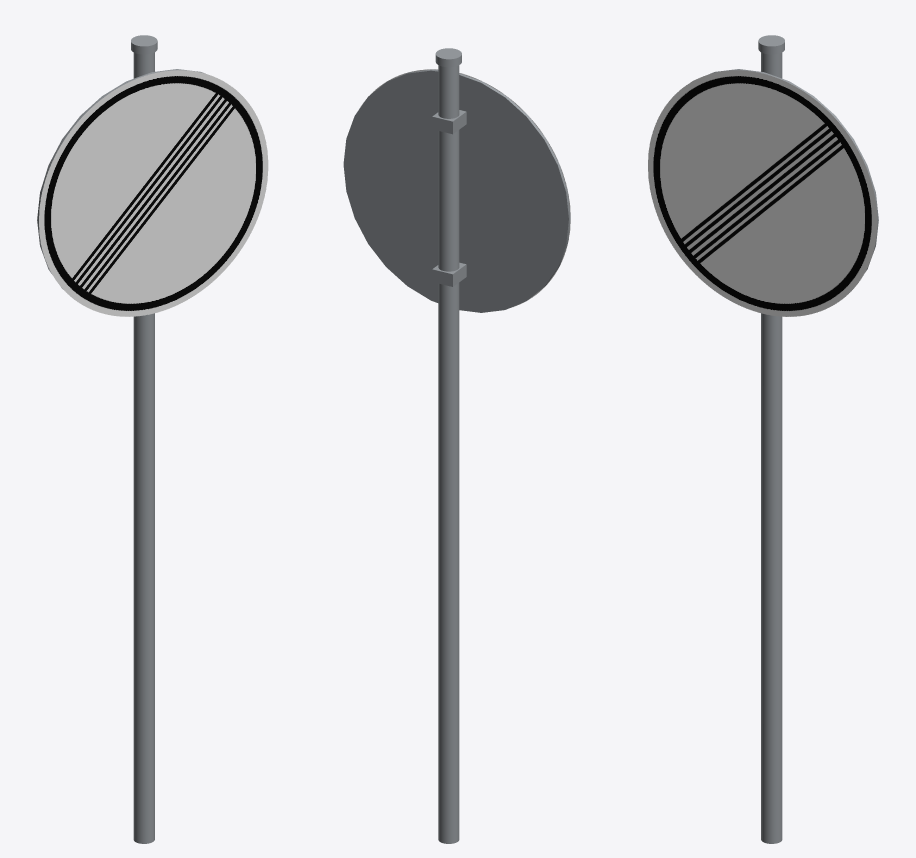
The model's file is sign_speed_none.dae.
3 renders of one model, left to right at view 1: azimuth 30°, elevation 25°; view 2: azimuth 150°, elevation 25°; view 3: azimuth 330°, elevation 25°, orthographic.
Parts seen in each view (by area): view 1: sign_speed_none; view 2: sign_speed_none; view 3: sign_speed_none.
Part boxes in pixels (x1,y1,x2,y2): sign_speed_none: (37, 35, 268, 843); sign_speed_none: (343, 48, 570, 843); sign_speed_none: (648, 35, 878, 843).
Bounding box in the file's own units: 0.9 × 0.0895 × 2.47.
Materials: 2 (1 with a texture image).
